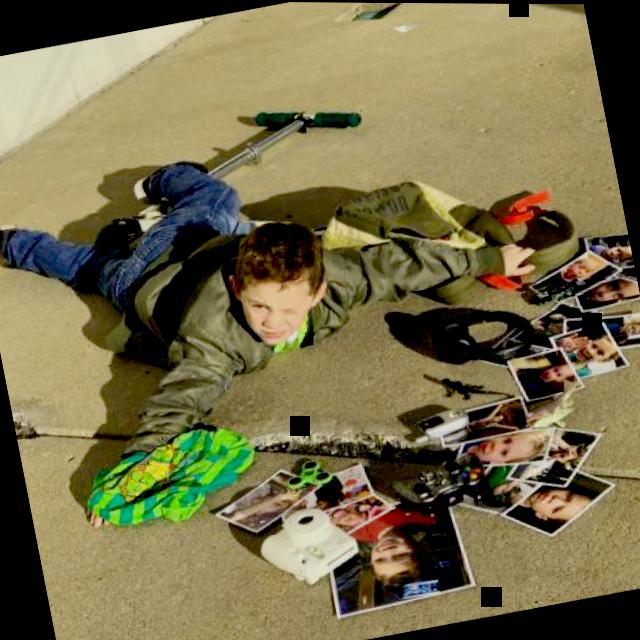Fall-Detected: (0, 75, 622, 535)
